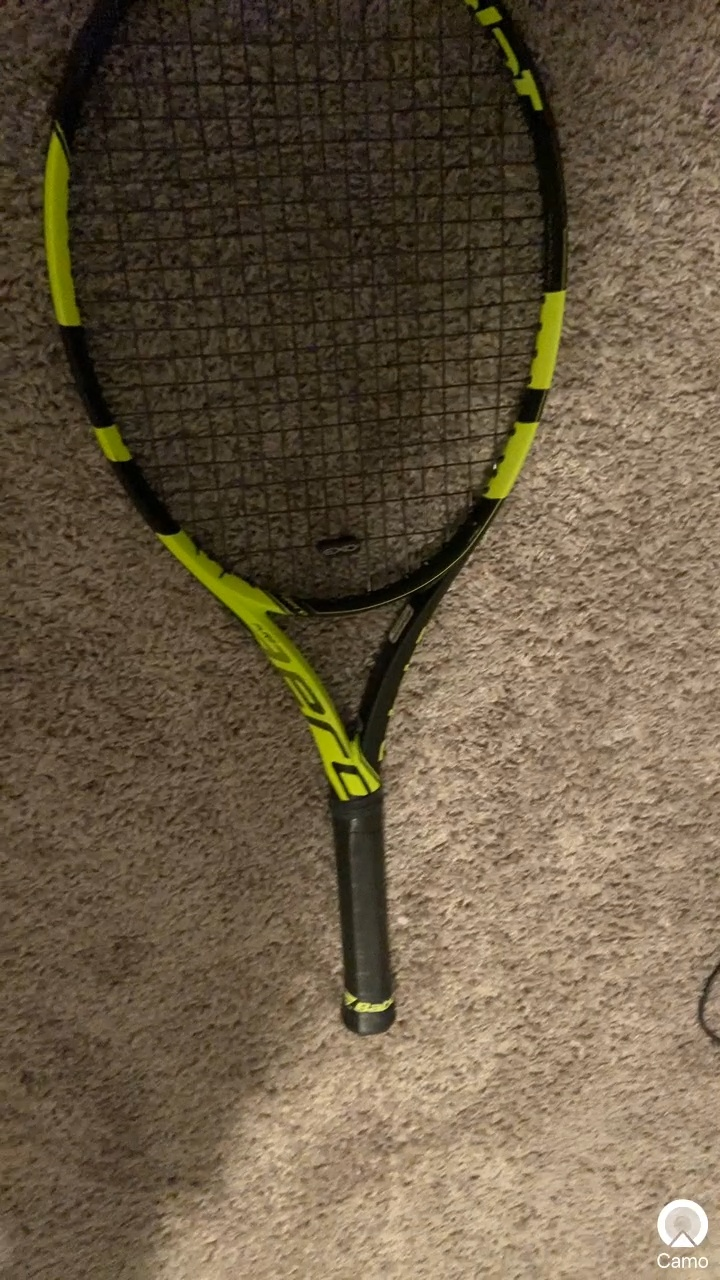Tennis_Racquet: (1, 1, 579, 1047)
